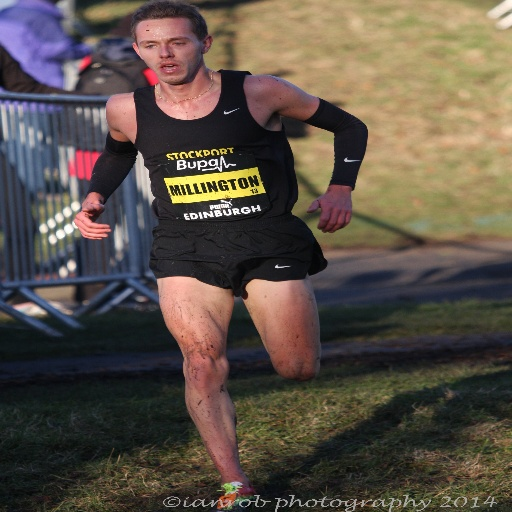hand: (316, 171, 358, 232), (68, 200, 112, 241)
